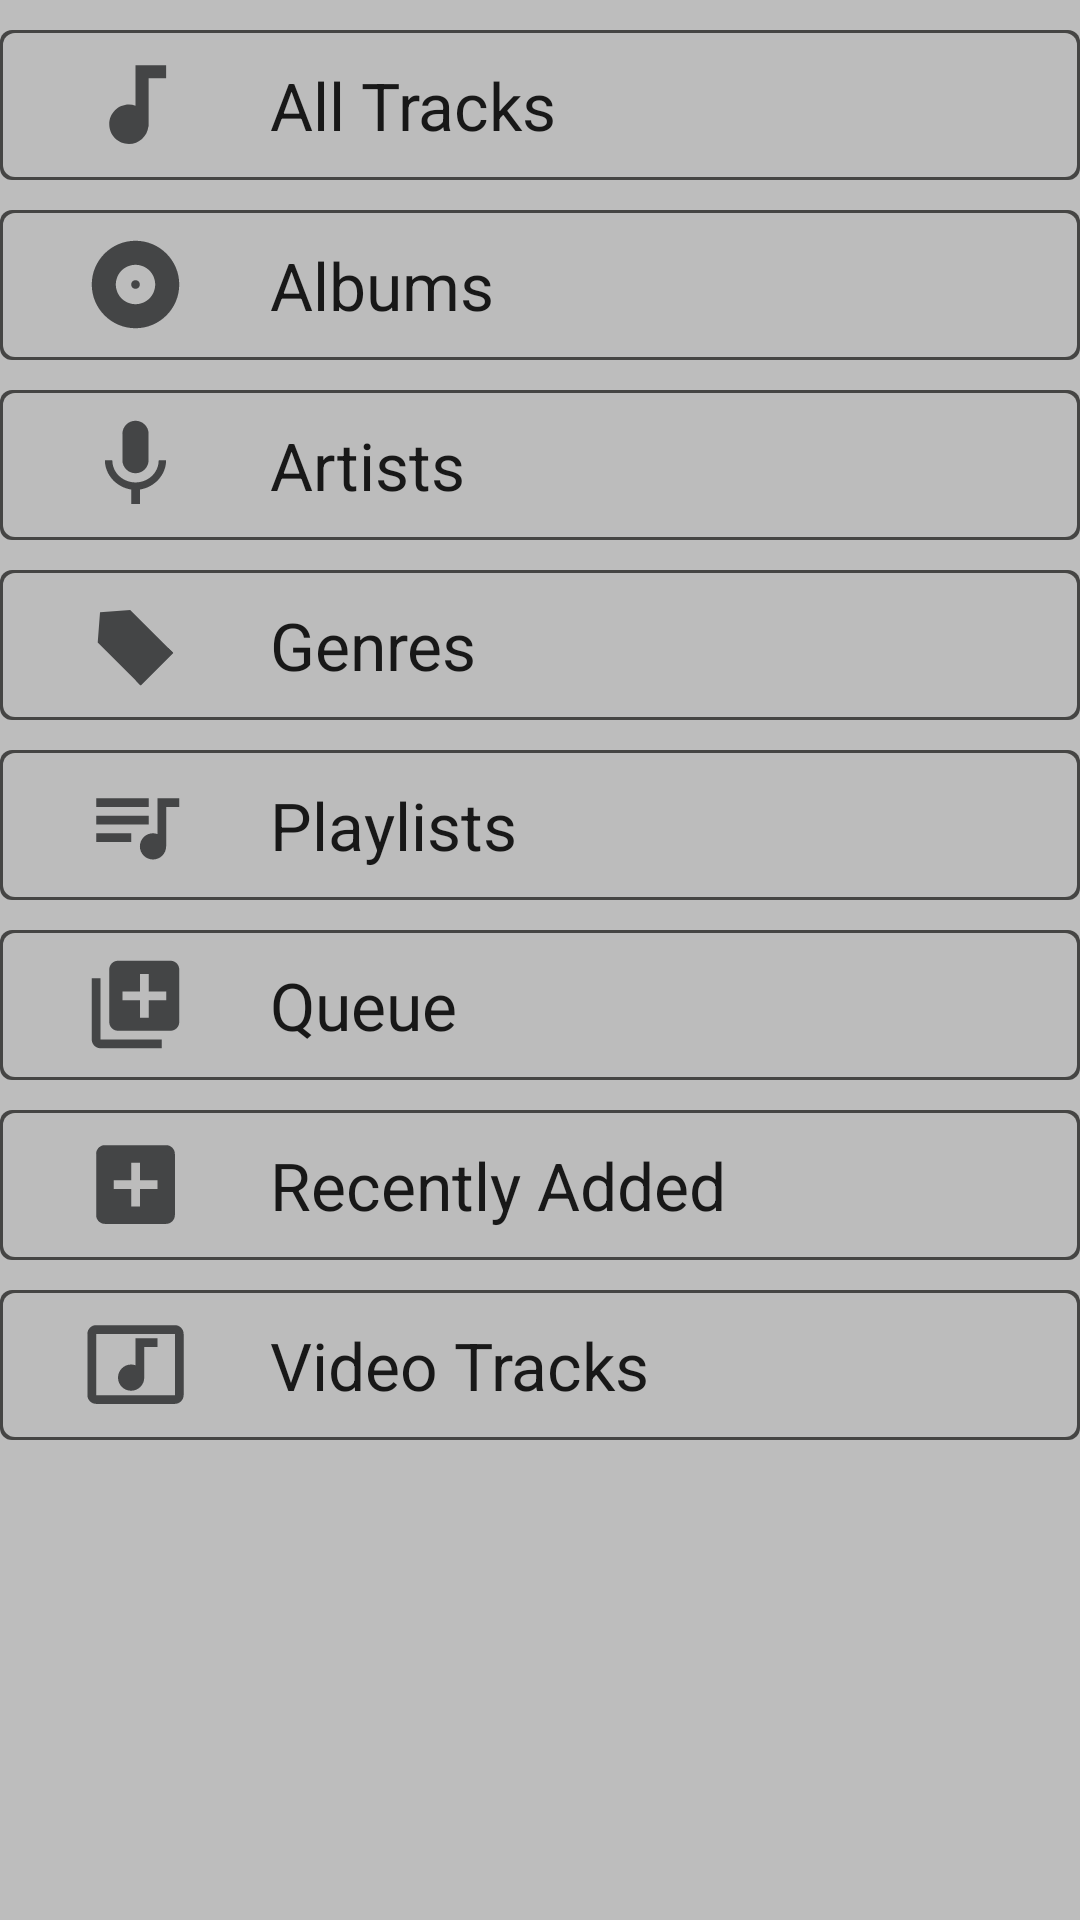

Icons on this 1080 × 1920 Android screen, each with its box as rect(x1, y1, x2, y2):
albumcircle: rect(91, 240, 180, 329)
audiotrack: rect(109, 65, 166, 144)
icond videotrack: rect(87, 1325, 184, 1404)
mic: rect(105, 420, 166, 504)
